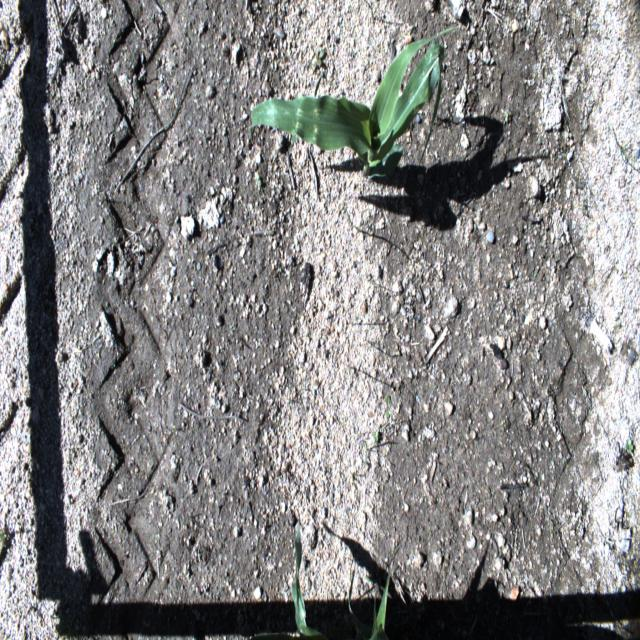crop: (249, 24, 460, 177), (252, 520, 392, 639)
weed: (620, 138, 637, 162), (312, 48, 325, 71), (385, 394, 391, 423), (625, 438, 634, 454), (372, 429, 379, 443), (257, 172, 263, 188), (549, 522, 553, 533)
